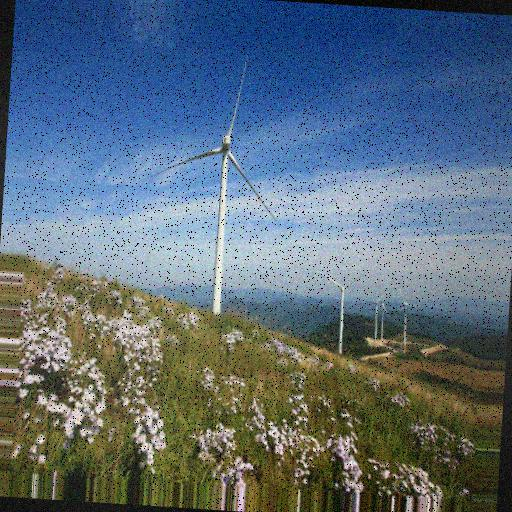wind turbine: (160, 60, 280, 321), (316, 271, 360, 356)
